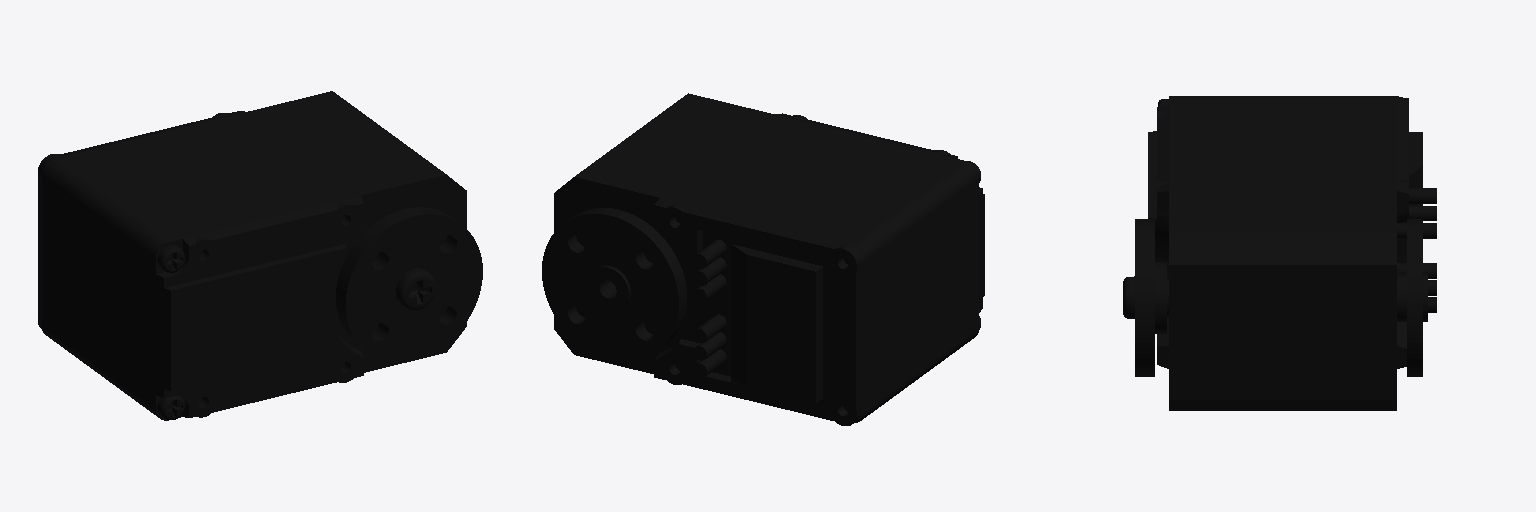
The model's file is shoulder_visuals_sts3215_03a_v1_mesh.obj.
The picture shows the model from 3 angles: view 1: azimuth 30°, elevation 25°; view 2: azimuth 150°, elevation 25°; view 3: azimuth 270°, elevation 25°; orthographic projection.
Size of the model in its own units: 0.0454 by 0.0248 by 0.0396.